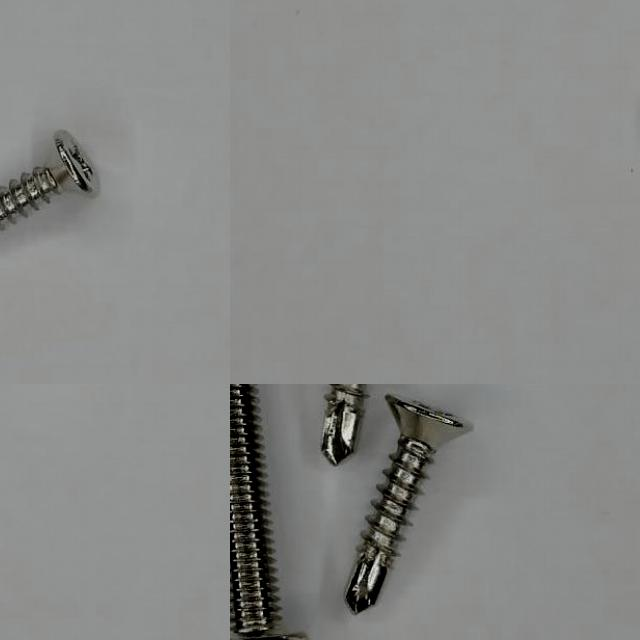Screw: (346, 395, 471, 614), (230, 384, 308, 640), (0, 131, 93, 228), (322, 384, 367, 465)
